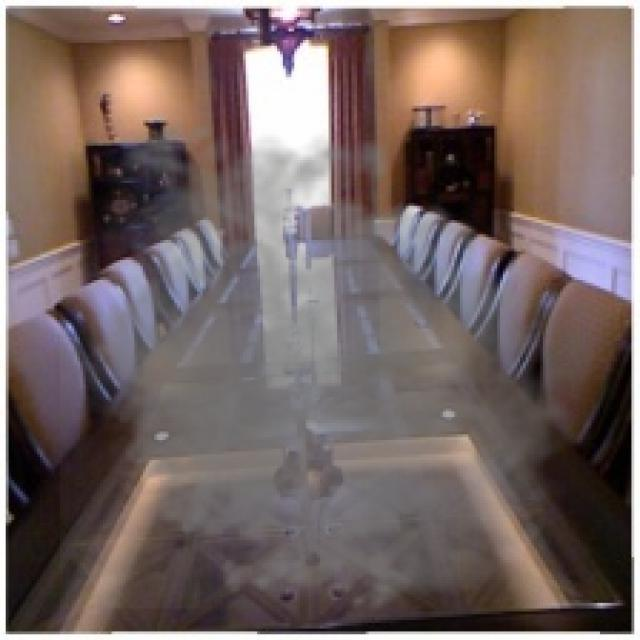Smoke: (60, 105, 597, 620)
